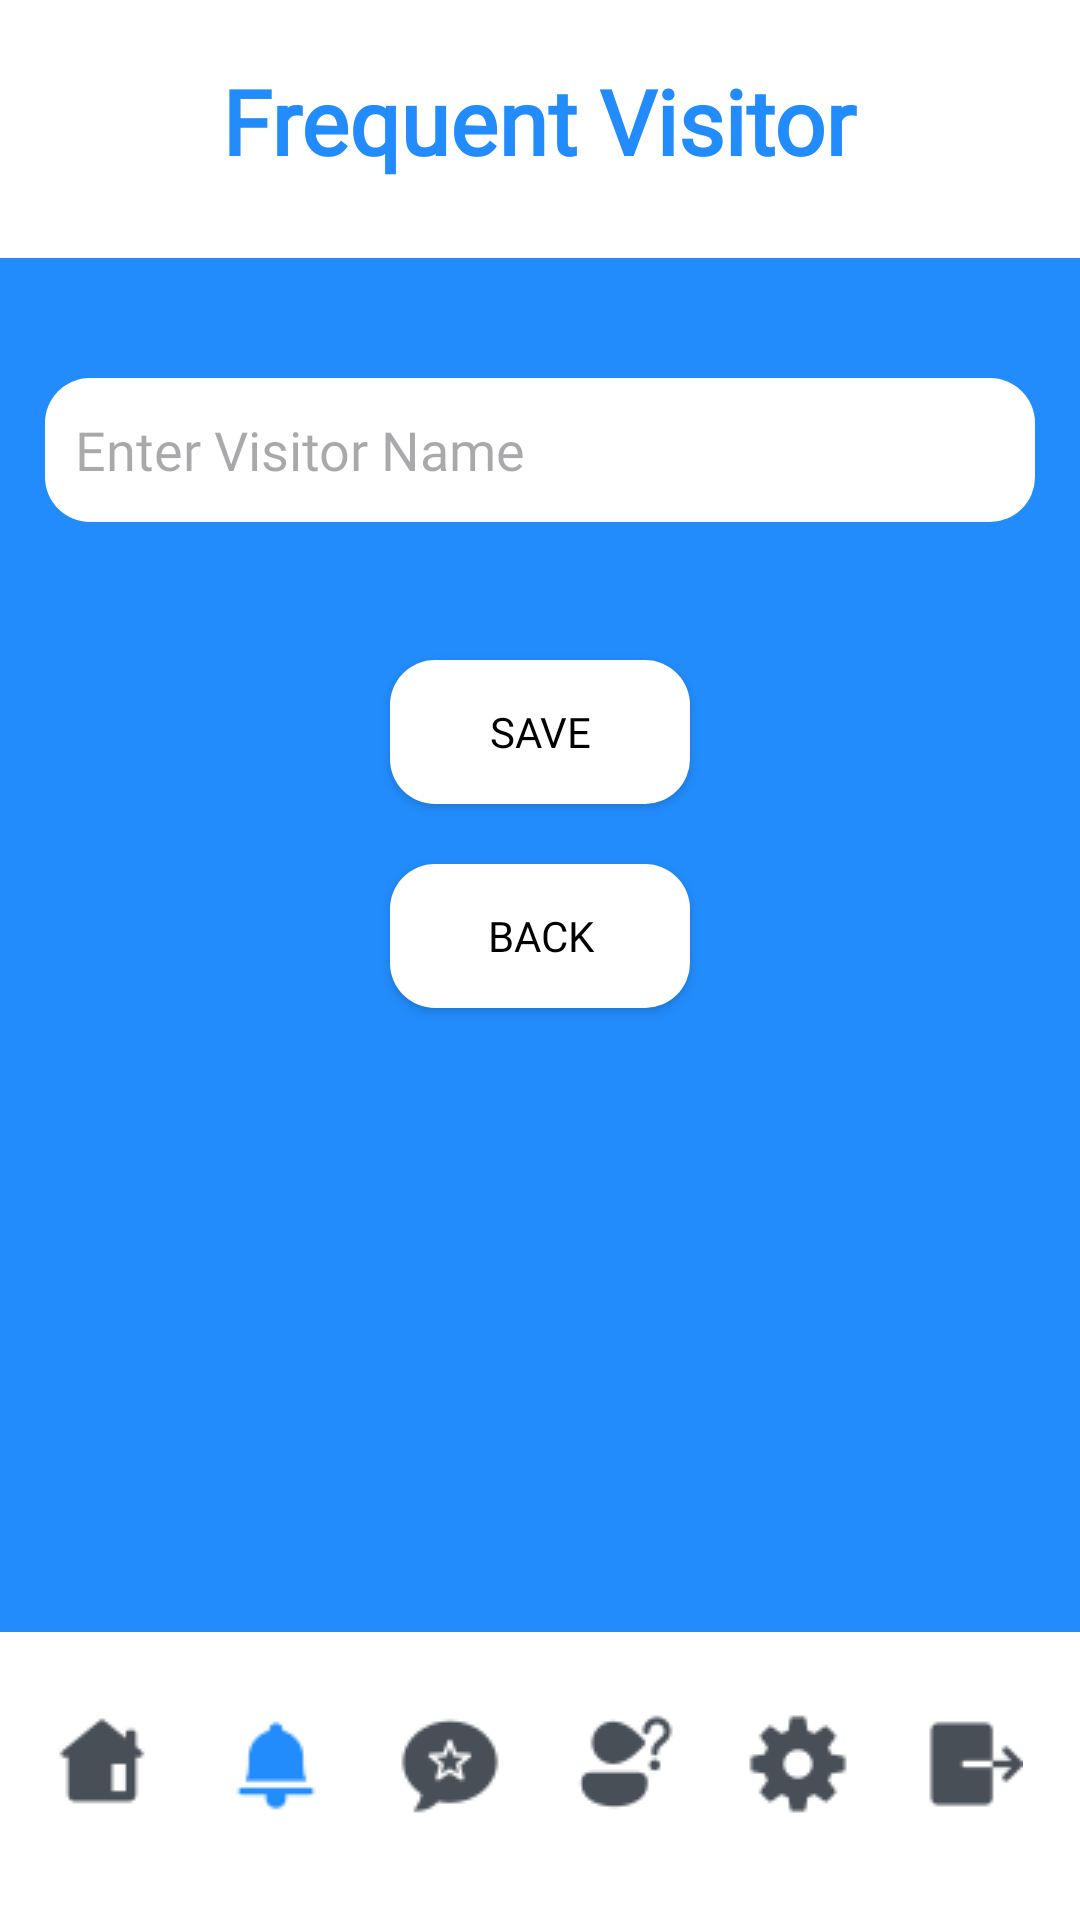

Icon bounding boxes for this 1080 x 1920 phone screenshot, format [x1, y1, x2, y2]:
doorbellblue: [237, 1721, 315, 1810]
feedback: [401, 1719, 499, 1813]
helpcenter: [580, 1715, 673, 1808]
home: [59, 1718, 145, 1804]
settings: [749, 1715, 847, 1813]
